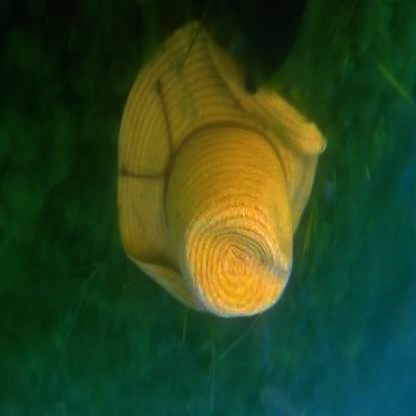misc: (112, 32, 318, 360)
